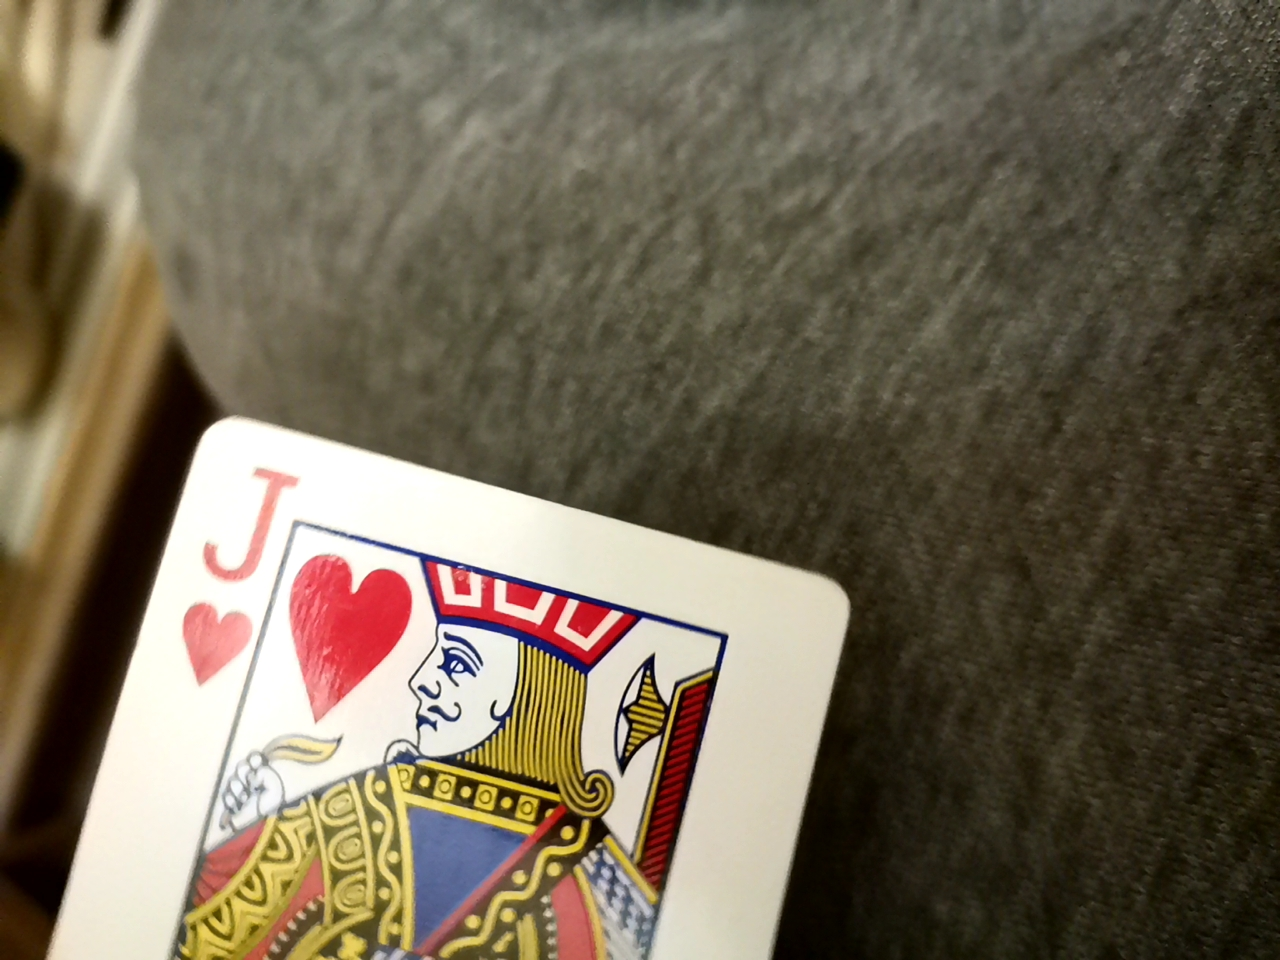hx j: (6, 404, 860, 959)
